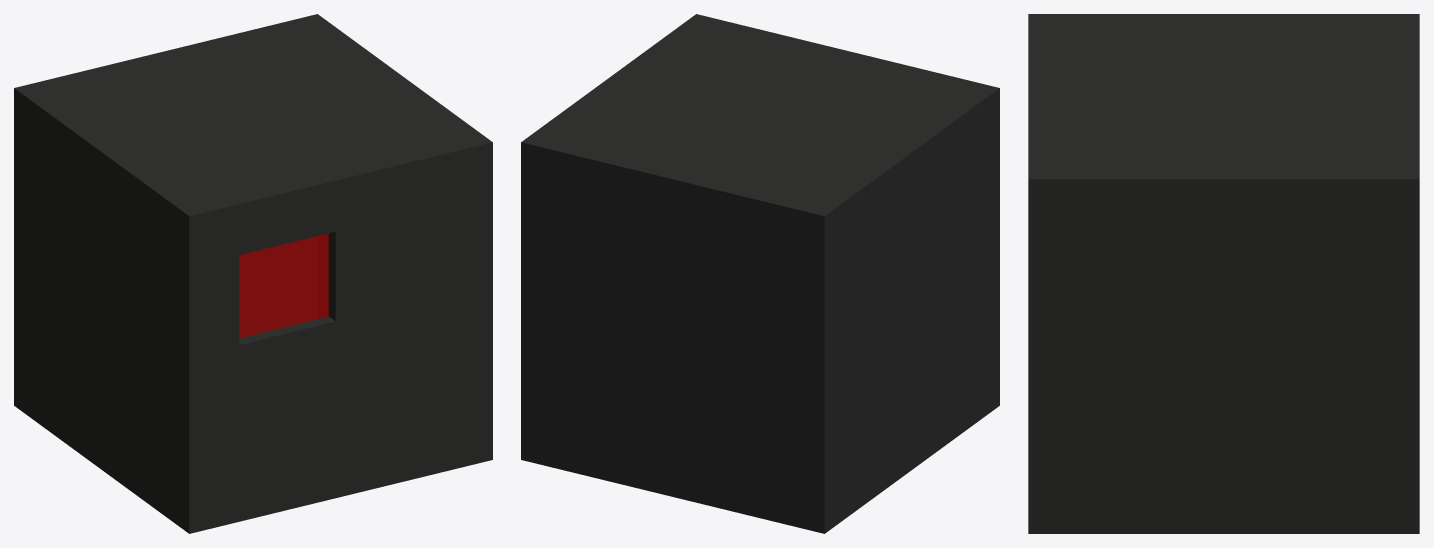
The model's file is Firewall02.fbx.
The picture shows the model from 3 angles, left to right: view 1: azimuth 30°, elevation 25°; view 2: azimuth 150°, elevation 25°; view 3: azimuth 270°, elevation 25°; orthographic projection. The views are drawn at different scales.
Visible parts, largest first — view 1: pCube1; view 2: pCube1; view 3: pCube1.
Boxes of the visible parts, x1,y1,x2,y2 form: pCube1: [14, 14, 492, 533]; pCube1: [521, 14, 999, 533]; pCube1: [1028, 14, 1419, 533].
Bounding box in the file's own units: 1 × 1 × 1.
